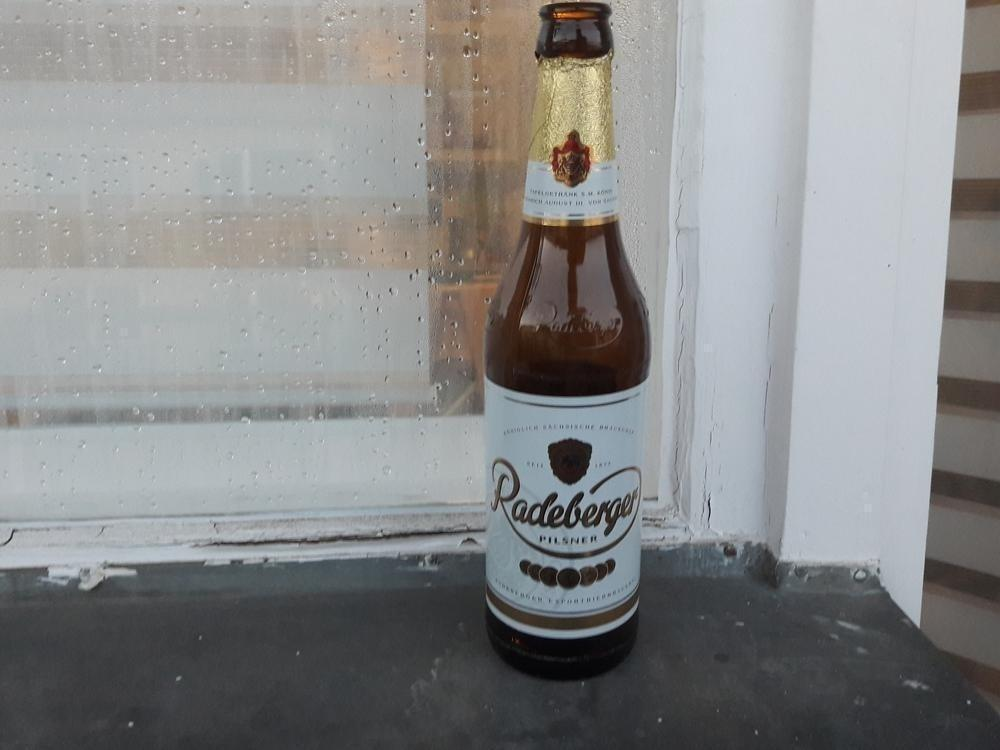bottle-glass: (481, 0, 653, 684)
